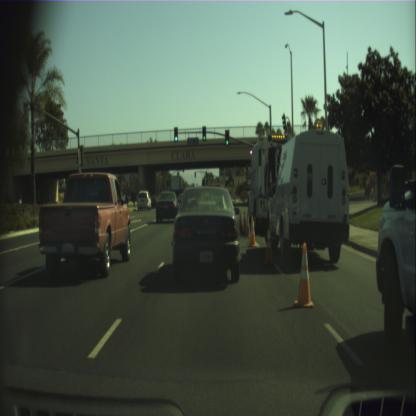Green: (174, 127, 178, 142), (202, 127, 206, 140), (225, 129, 228, 145)
